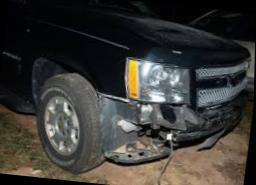Bumper: (98, 95, 241, 159)
